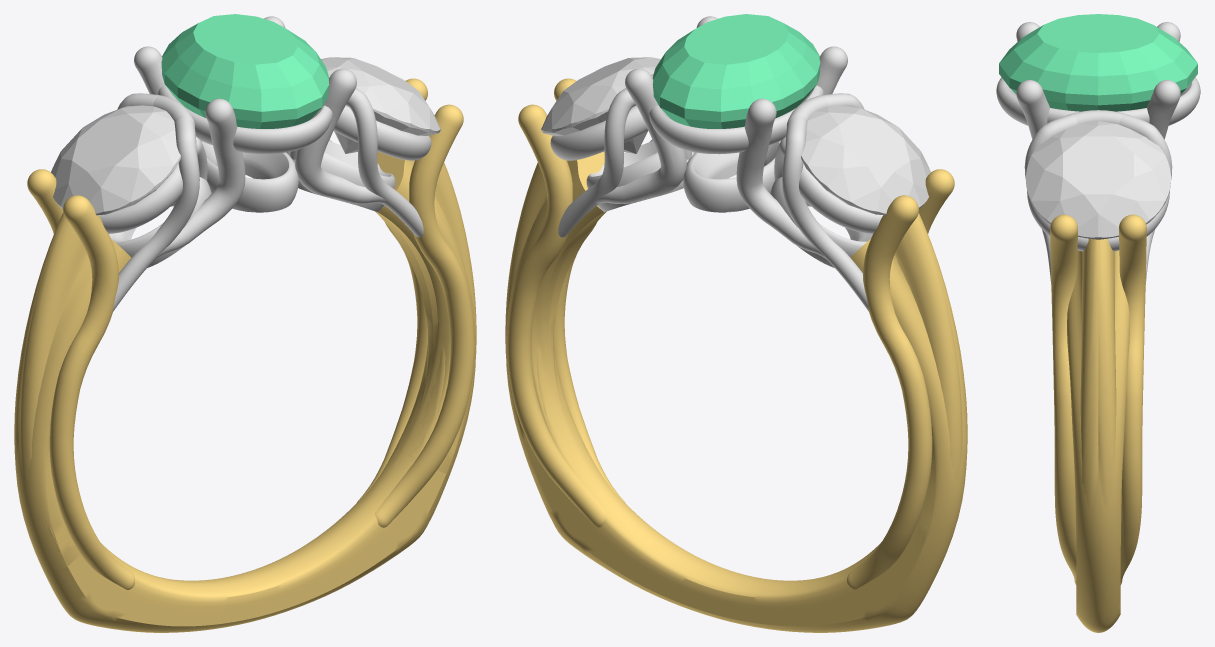
The model's file is BlaineYGPTV1eng.glb.
3 renders of one model, left to right at view 1: azimuth 30°, elevation 25°; view 2: azimuth 150°, elevation 25°; view 3: azimuth 270°, elevation 25°, orthographic. The views are drawn at different scales.
Visible parts, largest first — view 1: Blaine YG for 3d model, Blaine PT for 3d model, Blaine garnet for 3d model, Blaine dia for 3d model.001, Blaine dia for 3d model; view 2: Blaine YG for 3d model, Blaine PT for 3d model, Blaine garnet for 3d model, Blaine dia for 3d model.001, Blaine dia for 3d model; view 3: Blaine YG for 3d model, Blaine garnet for 3d model, Blaine dia for 3d model, Blaine PT for 3d model.
Part boxes in pixels (left/top/right/bottom): Blaine YG for 3d model: left=14, top=78, right=476, bottom=632; Blaine PT for 3d model: left=62, top=16, right=431, bottom=311; Blaine garnet for 3d model: left=161, top=14, right=329, bottom=128; Blaine dia for 3d model.001: left=51, top=105, right=180, bottom=215; Blaine dia for 3d model: left=321, top=57, right=440, bottom=153; Blaine YG for 3d model: left=505, top=78, right=967, bottom=632; Blaine PT for 3d model: left=550, top=16, right=919, bottom=311; Blaine garnet for 3d model: left=652, top=14, right=820, bottom=128; Blaine dia for 3d model.001: left=801, top=105, right=930, bottom=215; Blaine dia for 3d model: left=541, top=57, right=660, bottom=153; Blaine YG for 3d model: left=1050, top=214, right=1146, bottom=632; Blaine garnet for 3d model: left=999, top=14, right=1197, bottom=111; Blaine dia for 3d model: left=1026, top=121, right=1170, bottom=239; Blaine PT for 3d model: left=996, top=22, right=1200, bottom=284.
Bounding box in the file's own units: 20.5 × 25.08 × 8.3.
